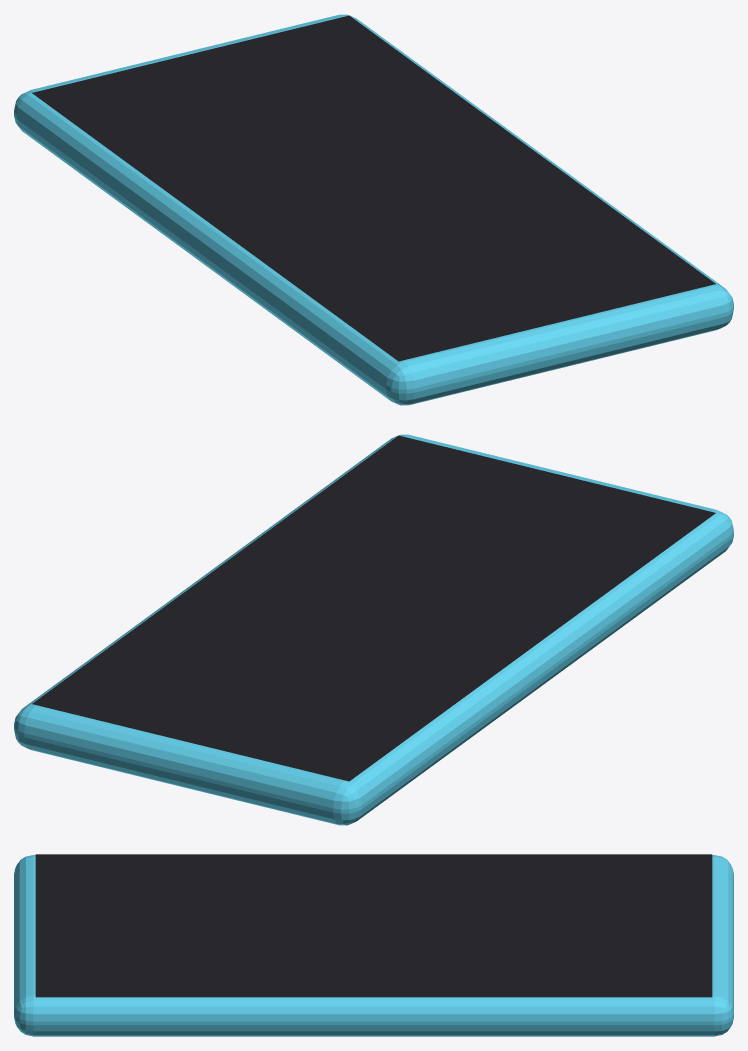
The model's file is motorola-razr-model-178-budget-2026.glb.
The picture shows the model from 3 angles, top to bottom: view 1: azimuth 30°, elevation 25°; view 2: azimuth 150°, elevation 25°; view 3: azimuth 270°, elevation 25°; orthographic projection. The views are drawn at different scales.
Visible parts, largest first — view 1: Phone_Screen, Phone_Body; view 2: Phone_Screen, Phone_Body; view 3: Phone_Screen, Phone_Body.
Boxes of the visible parts, bbox=[...] form: Phone_Screen: bbox=[32, 15, 715, 361]; Phone_Body: bbox=[14, 14, 733, 405]; Phone_Screen: bbox=[32, 435, 715, 781]; Phone_Body: bbox=[14, 434, 733, 825]; Phone_Screen: bbox=[35, 854, 712, 997]; Phone_Body: bbox=[14, 855, 733, 1036].
Bounding box in the file's own units: 0.0765 × 0.009 × 0.1498.
